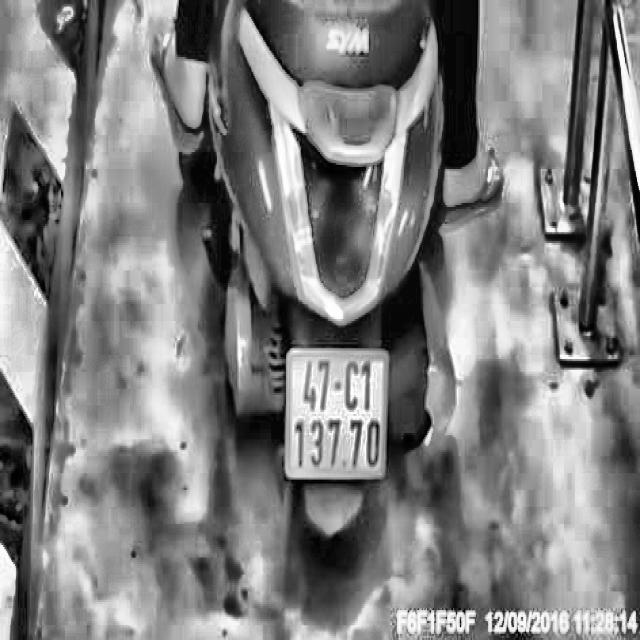plate: (281, 338, 391, 488)
